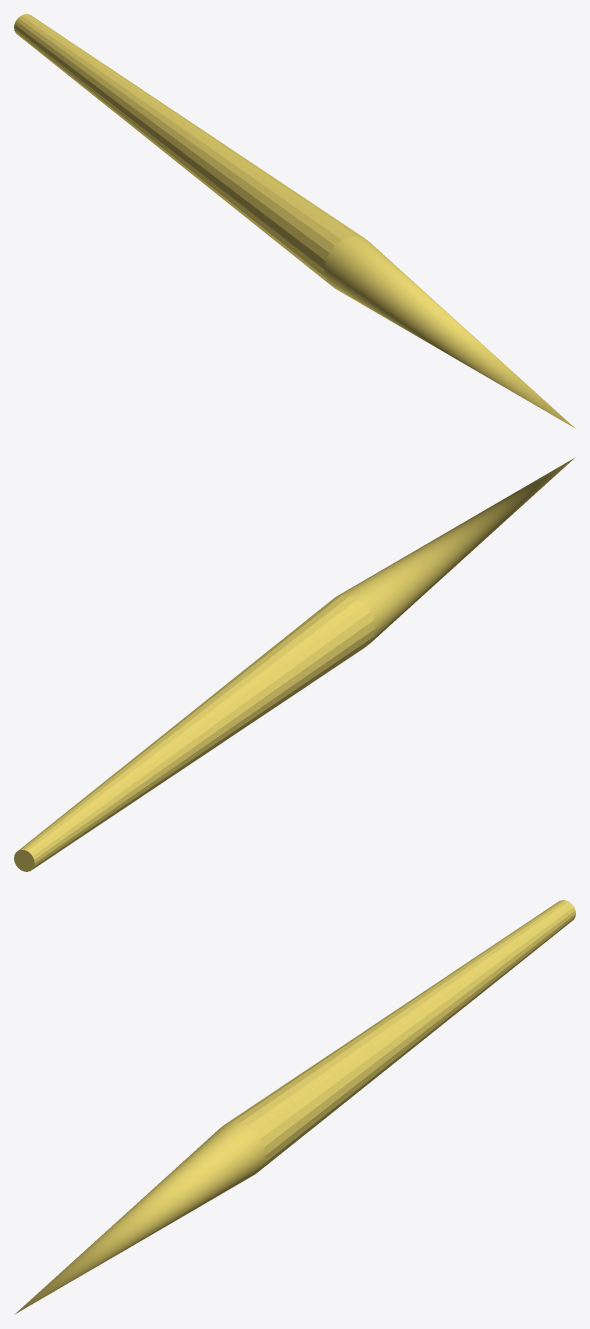
Rendered from bullet.fbx.
3 views of the same model, one above another, from view 1: azimuth 30°, elevation 25°; view 2: azimuth 150°, elevation 25°; view 3: azimuth 330°, elevation 25° (orthographic).
Visible parts, largest first — view 1: pCone1; view 2: pCone1; view 3: pCone1.
Part boxes in pixels (bbox=[...]): pCone1: bbox=[14, 14, 575, 428]; pCone1: bbox=[14, 457, 575, 871]; pCone1: bbox=[14, 900, 575, 1314].
Size of the model in its own units: 0.1039 by 0.1039 by 1.95.
